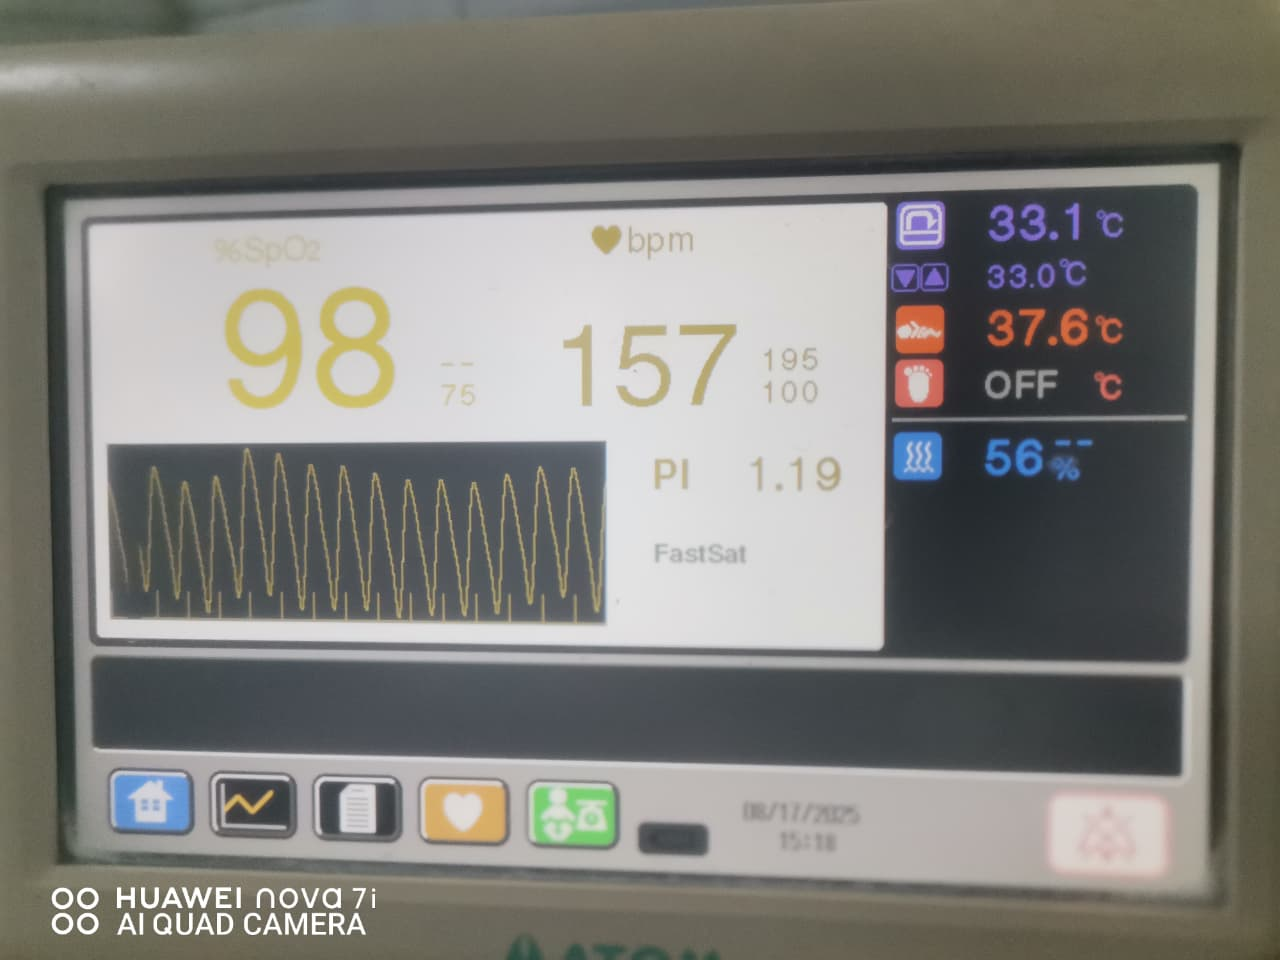heart_rate_value: (536, 306, 756, 421)
humidity_value: (971, 427, 1049, 491)
skin_temp_value: (965, 301, 1098, 365)
spo2_value: (201, 282, 416, 424)
